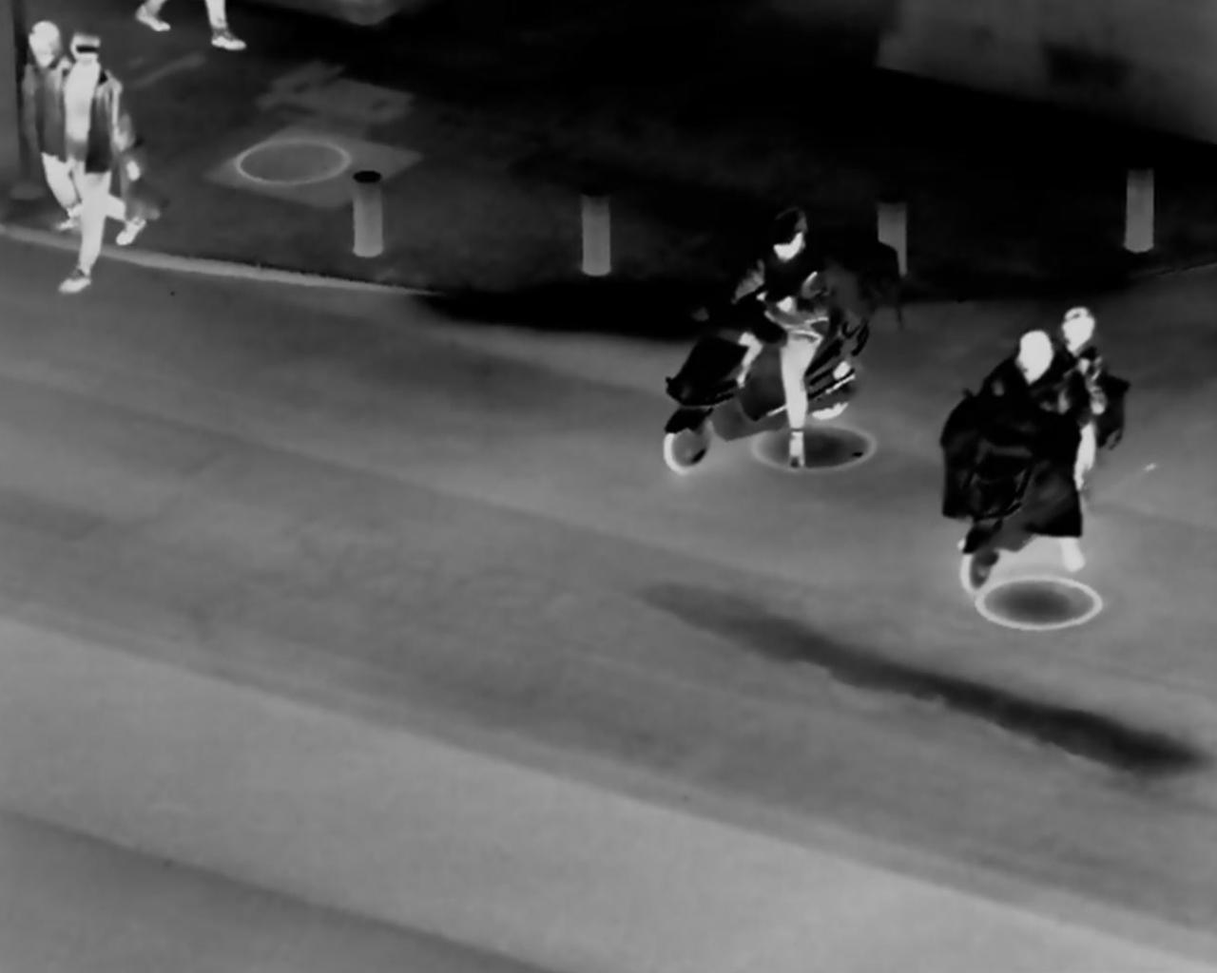person: (733, 194, 848, 470), (966, 320, 1082, 567), (53, 30, 147, 295), (11, 17, 82, 234), (1051, 297, 1124, 495)
